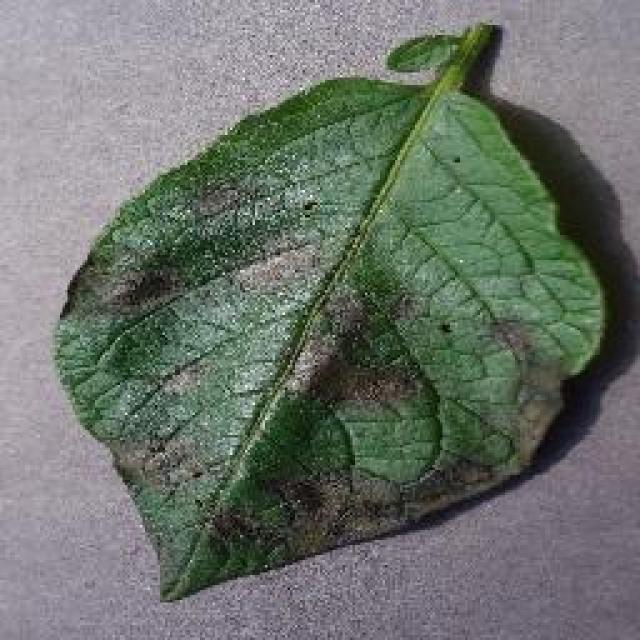Potato___Late_blight: (48, 19, 610, 605)
